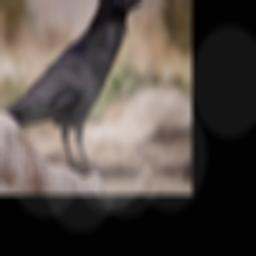Crow: (2, 0, 144, 173)
